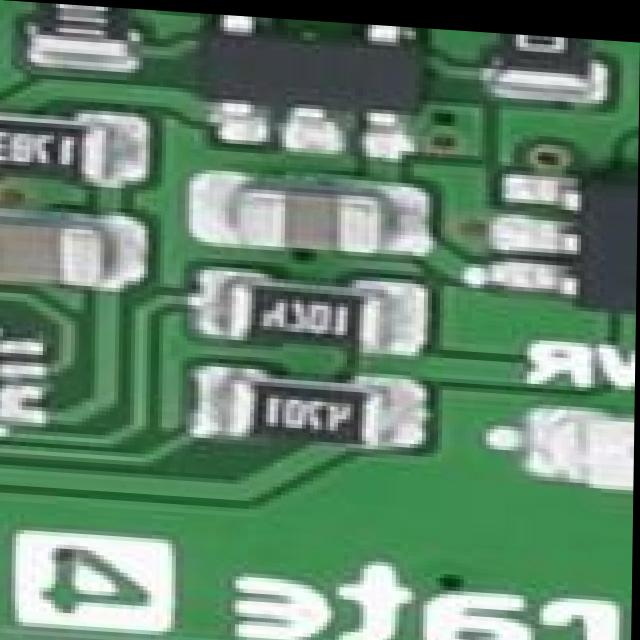IC: (183, 10, 436, 151), (513, 163, 638, 302), (0, 328, 24, 441)
LED: (531, 412, 636, 482)
capacitor: (209, 187, 410, 254), (0, 212, 122, 294)
resistor: (205, 371, 396, 443), (208, 267, 393, 339), (0, 108, 107, 178), (19, 1, 124, 50), (492, 26, 588, 71)
